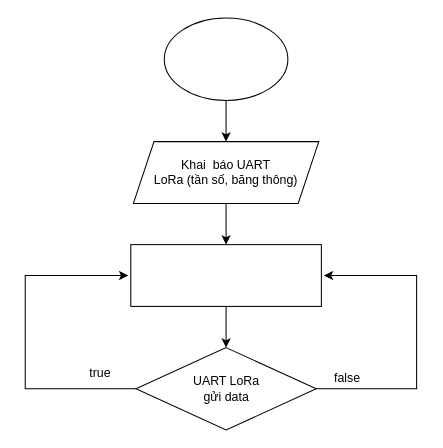
This 443x448 diagram has some shape labels left out. Each missing label, with the box of its shape:
Begin: (163, 17, 288, 100)
Nhận dữ liệu UART từ máy tính: (130, 244, 321, 306)
